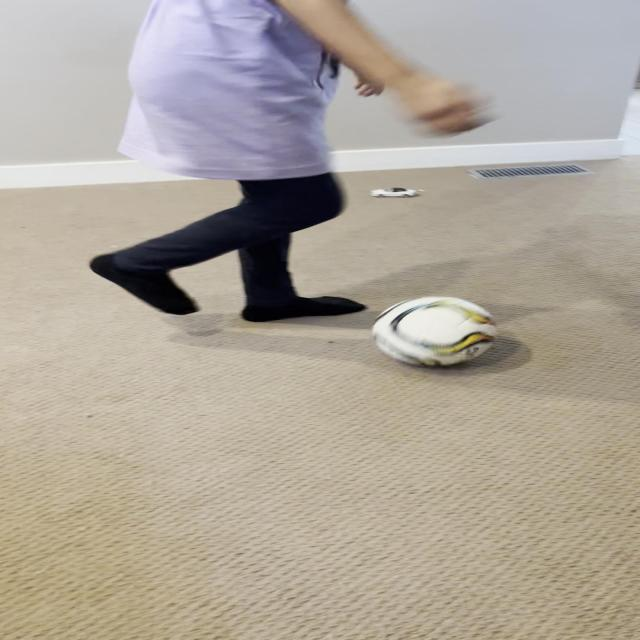Soccer Ball: (372, 296, 493, 366)
